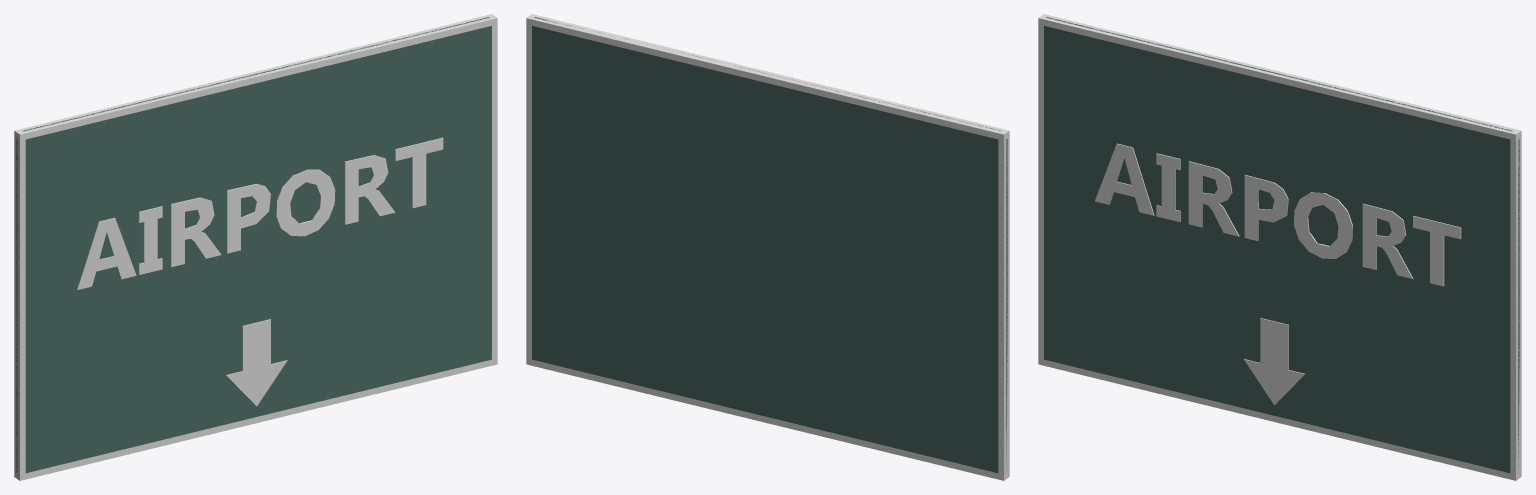
File: SM_FloorProps_RoadSign_28.fbx
3 renders of one model, left to right at view 1: azimuth 30°, elevation 25°; view 2: azimuth 150°, elevation 25°; view 3: azimuth 330°, elevation 25°, orthographic.
Parts seen in each view (by area): view 1: SM_FloorProps_RoadSign_28; view 2: SM_FloorProps_RoadSign_28; view 3: SM_FloorProps_RoadSign_28.
Boxes of the visible parts, box(x1,y1,x2,y2) form: SM_FloorProps_RoadSign_28: box(14, 14, 497, 480); SM_FloorProps_RoadSign_28: box(526, 14, 1009, 480); SM_FloorProps_RoadSign_28: box(1038, 14, 1521, 480).
Bounding box in the file's own units: 2.33 × 1.61 × 0.0522.
